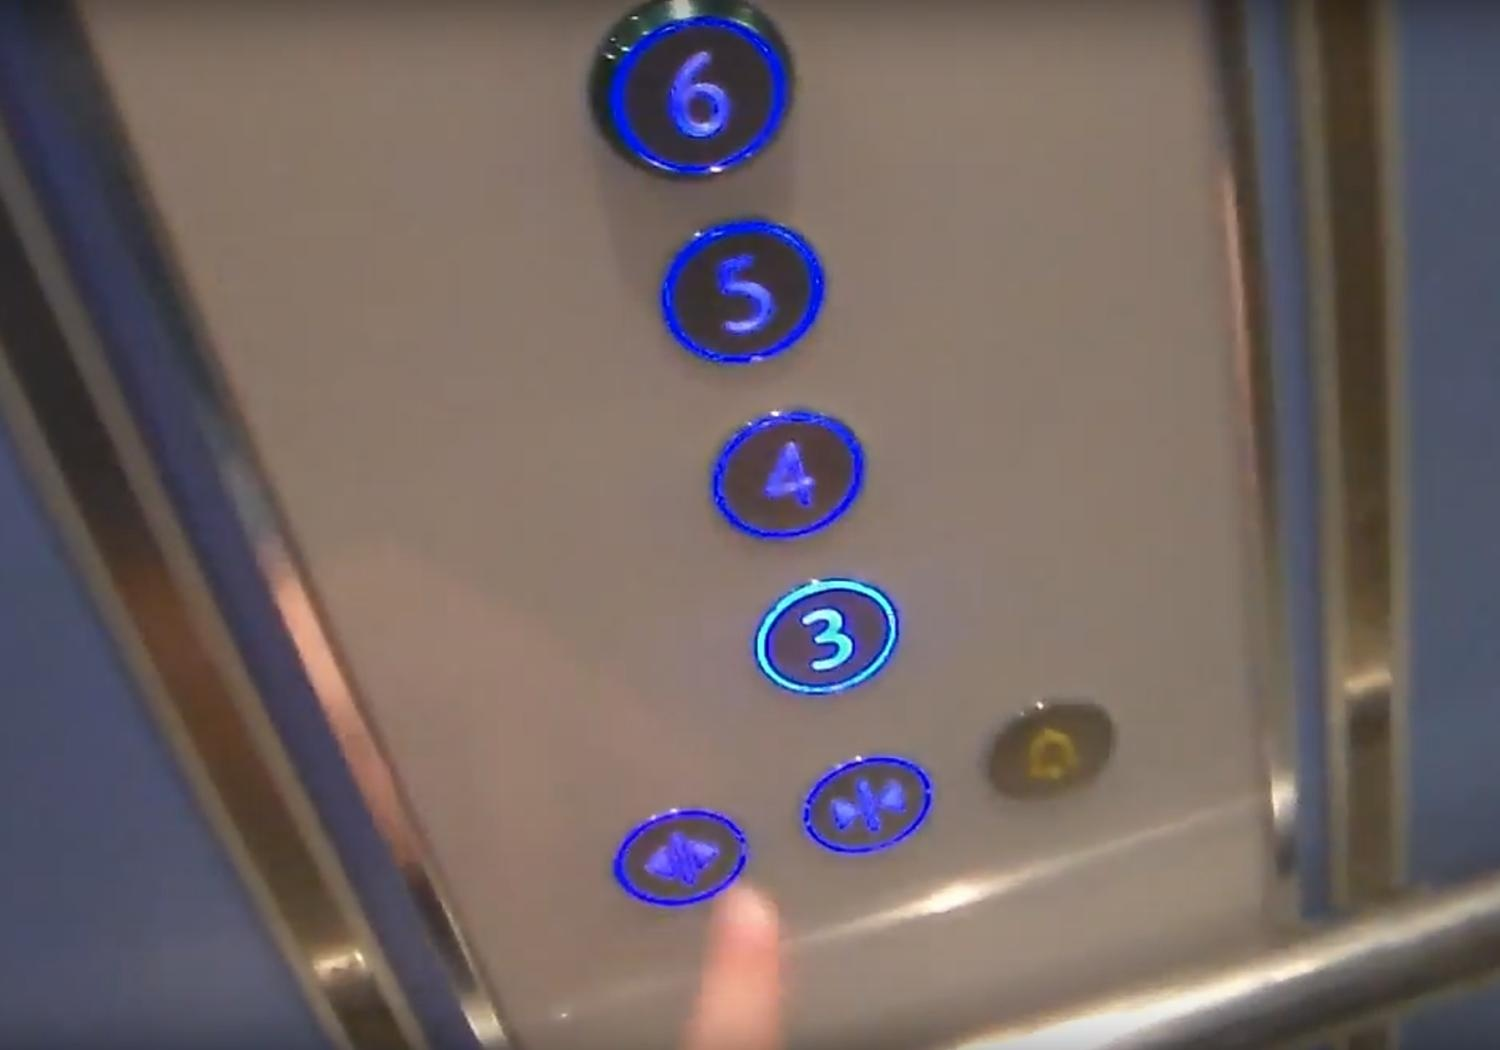3: (751, 571, 903, 699)
4: (706, 400, 866, 540)
5: (652, 207, 829, 366)
6: (578, 1, 798, 189)
alarm: (979, 687, 1120, 808)
close: (798, 742, 940, 863)
open: (608, 793, 749, 915)
